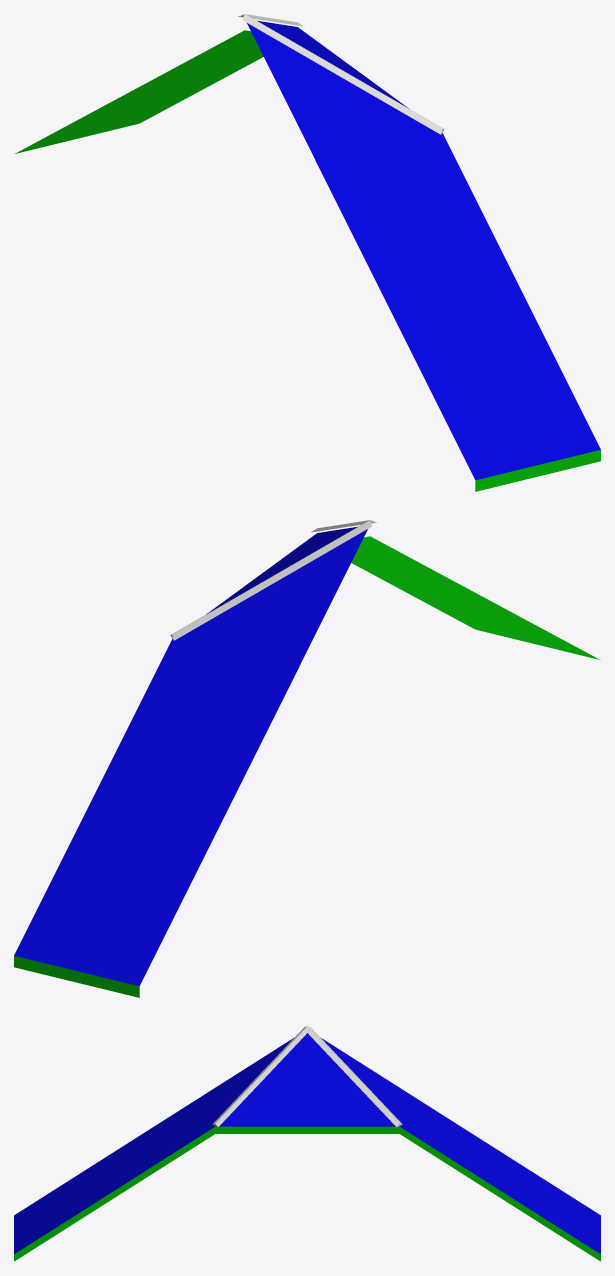
Rendered from roof_half_hip_end.glb.
3 renders of one model, top to bottom at view 1: azimuth 30°, elevation 25°; view 2: azimuth 150°, elevation 25°; view 3: azimuth 270°, elevation 25°, orthographic. The views are drawn at different scales.
Visible parts, largest first — view 1: roof_half_hip_end; view 2: roof_half_hip_end; view 3: roof_half_hip_end.
Boxes of the visible parts, bbox=[...] form: roof_half_hip_end: bbox=[15, 14, 600, 491]; roof_half_hip_end: bbox=[14, 520, 599, 997]; roof_half_hip_end: bbox=[14, 1026, 600, 1261].
Size of the model in its own units: 1.78 by 3.92 by 10.6.
